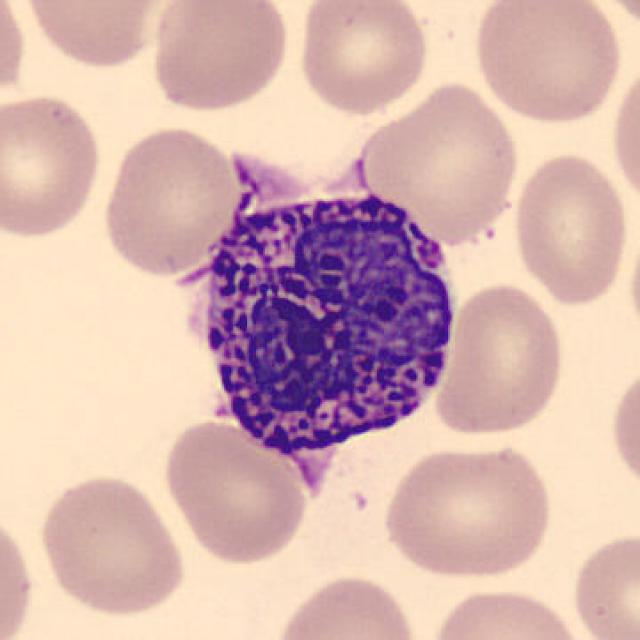Basophil: (169, 159, 473, 513)
RBC: (352, 78, 524, 243), (377, 437, 558, 582), (158, 412, 311, 568), (34, 469, 190, 621), (98, 122, 245, 280), (432, 278, 567, 441), (469, 0, 626, 127), (508, 148, 633, 307), (148, 0, 294, 115), (293, 0, 433, 116), (0, 90, 105, 241), (16, 0, 172, 71), (270, 569, 423, 640), (425, 583, 592, 640), (567, 527, 640, 640), (0, 500, 39, 640), (608, 58, 640, 210), (606, 360, 640, 500), (0, 0, 30, 108), (626, 205, 640, 352), (586, 0, 640, 33)
